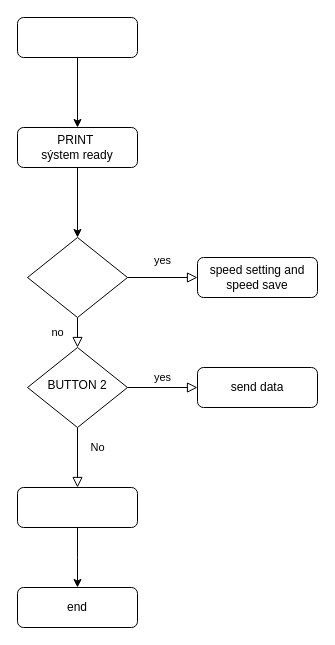
Some shapes in this 335 by 645 pixel diagram are drawn without their labels. The centre of each missing label's shape, as x and y in pixels:
BUTTON 1: point (77, 277)
print runtime and speed: point (77, 507)
Start: point (77, 37)
